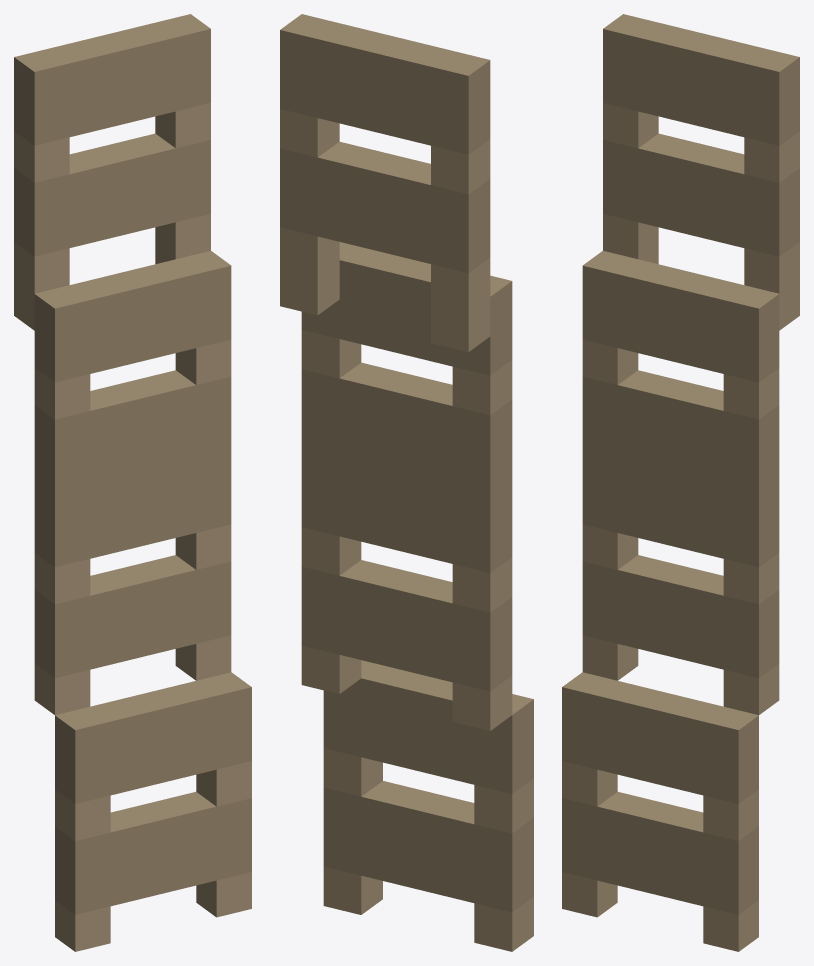
Rendered from escalera_mano_01.glb.
3 views of the same model, side by side, from view 1: azimuth 30°, elevation 25°; view 2: azimuth 150°, elevation 25°; view 3: azimuth 330°, elevation 25° (orthographic). The views are drawn at different scales.
Visible parts, largest first — view 1: escalera_mano_01; view 2: escalera_mano_01; view 3: escalera_mano_01.
Boxes of the visible parts, left/top/right/bottom form: escalera_mano_01: left=14, top=14, right=251, bottom=951; escalera_mano_01: left=280, top=14, right=533, bottom=951; escalera_mano_01: left=562, top=14, right=799, bottom=951.
Bounding box in the file's own units: 0.5 × 2.3 × 0.3.
